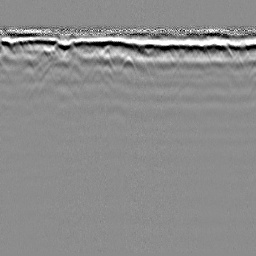cavity: (118, 54, 139, 75)
